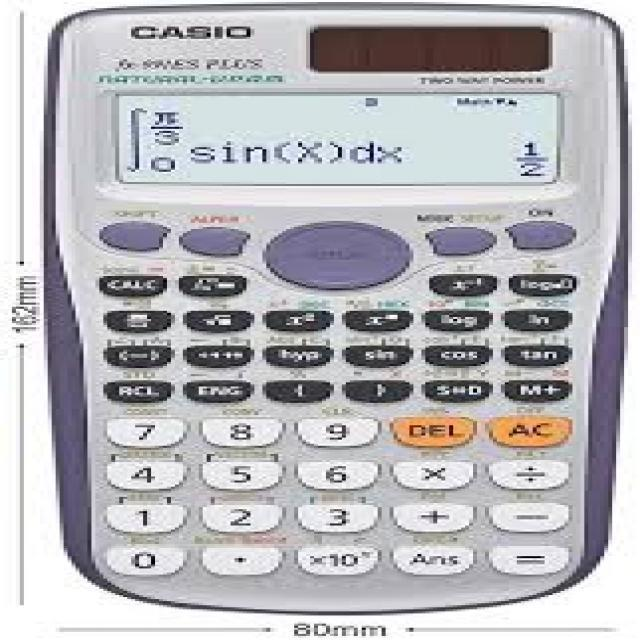Calculator: (30, 0, 640, 619)
